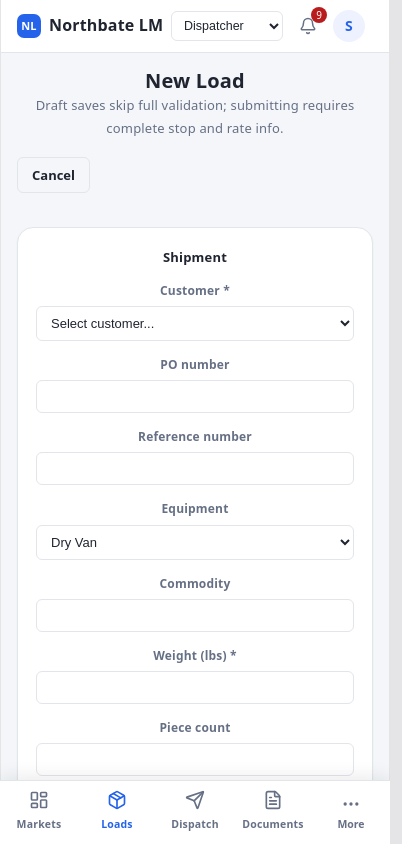
App navigation smoke test › hides ops-only nav items when switching to a portal role (driver)
Select "Driver" in the dropdown named "Viewing as" next to "Northbate LM": (227, 26) [171,11,283,41]
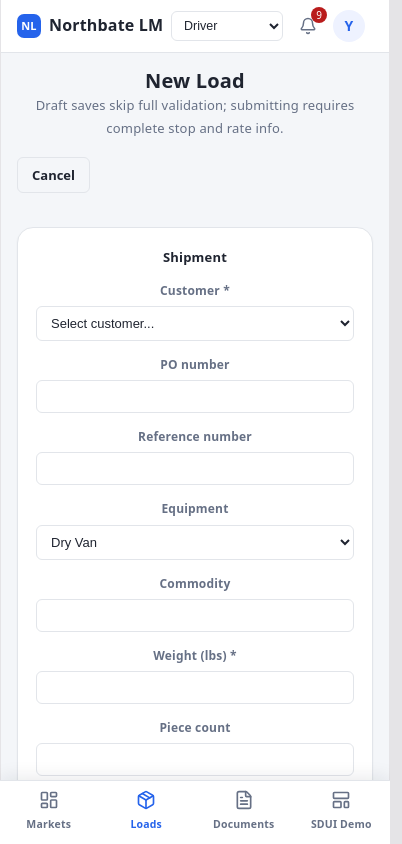
Check: the link "Dispatch" is gone
